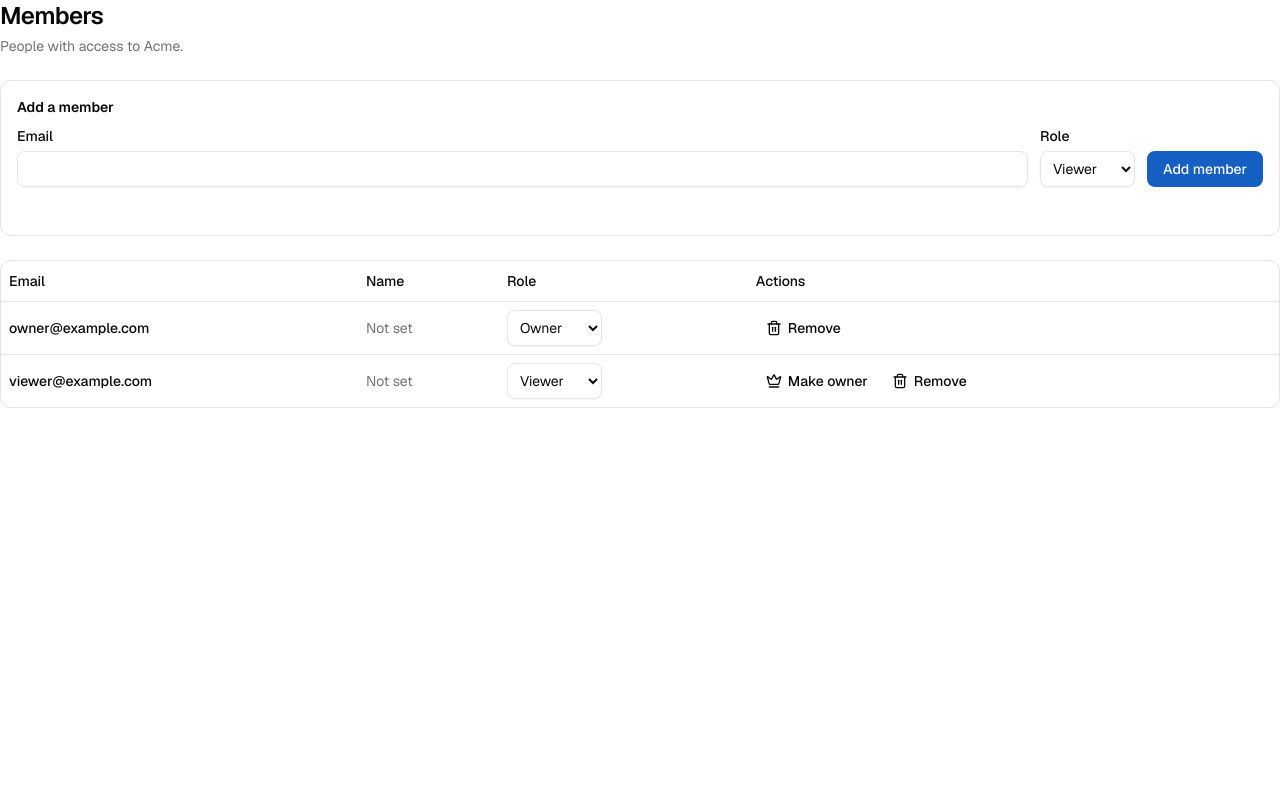
Test: MembersView permission gating › offers Owner to an OWNER and confirms before removal
What coordinates should you click on to do the following:
click the button with aria-label "Remove viewer@example.com"
I would click on:
 (929, 380)
Its box is [882,364,977,396].
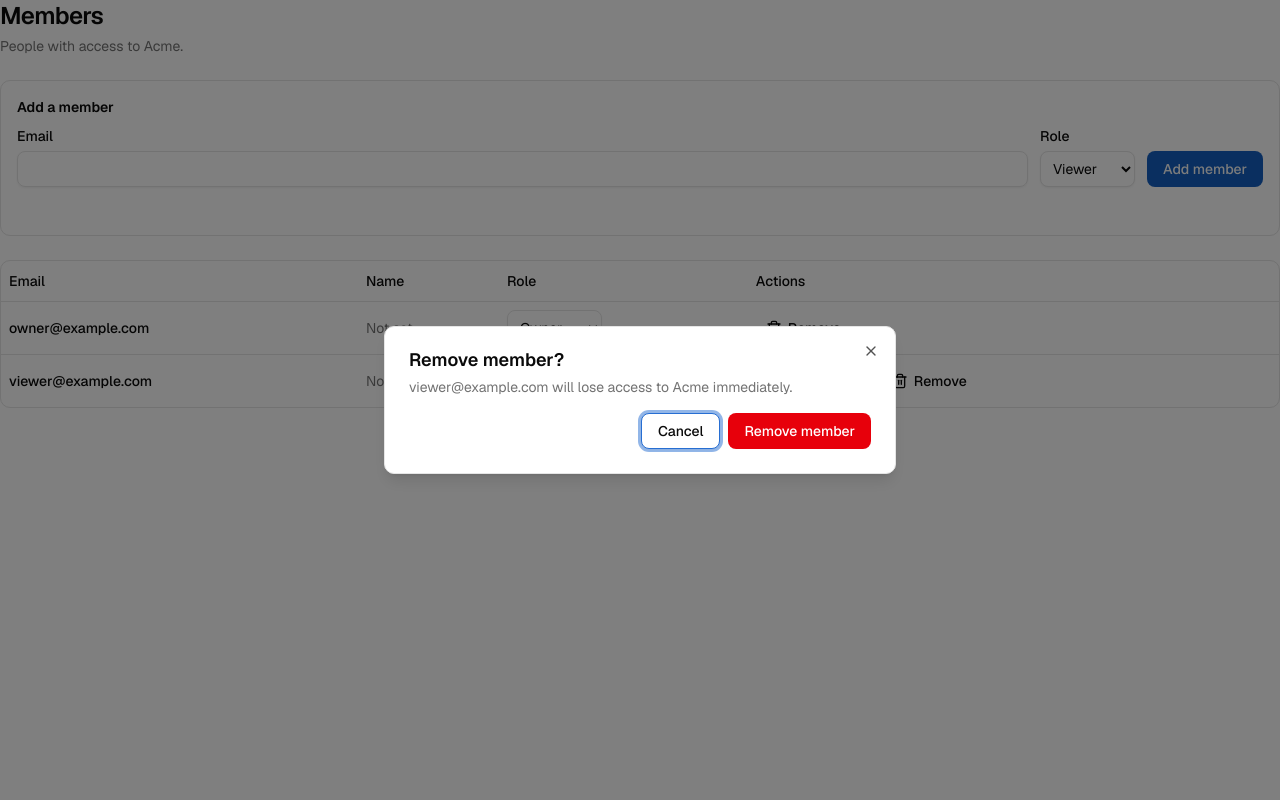
Check: the dialog shows "viewer@example.com will lose access", box [409,378,792,396]
